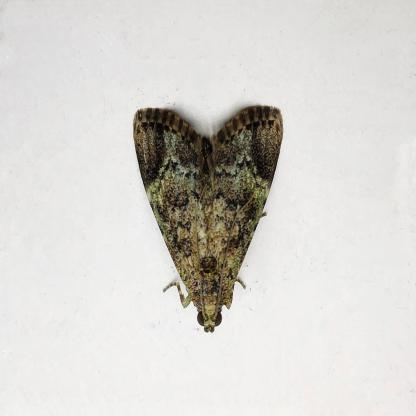Leaf Webber: (129, 101, 291, 338)
